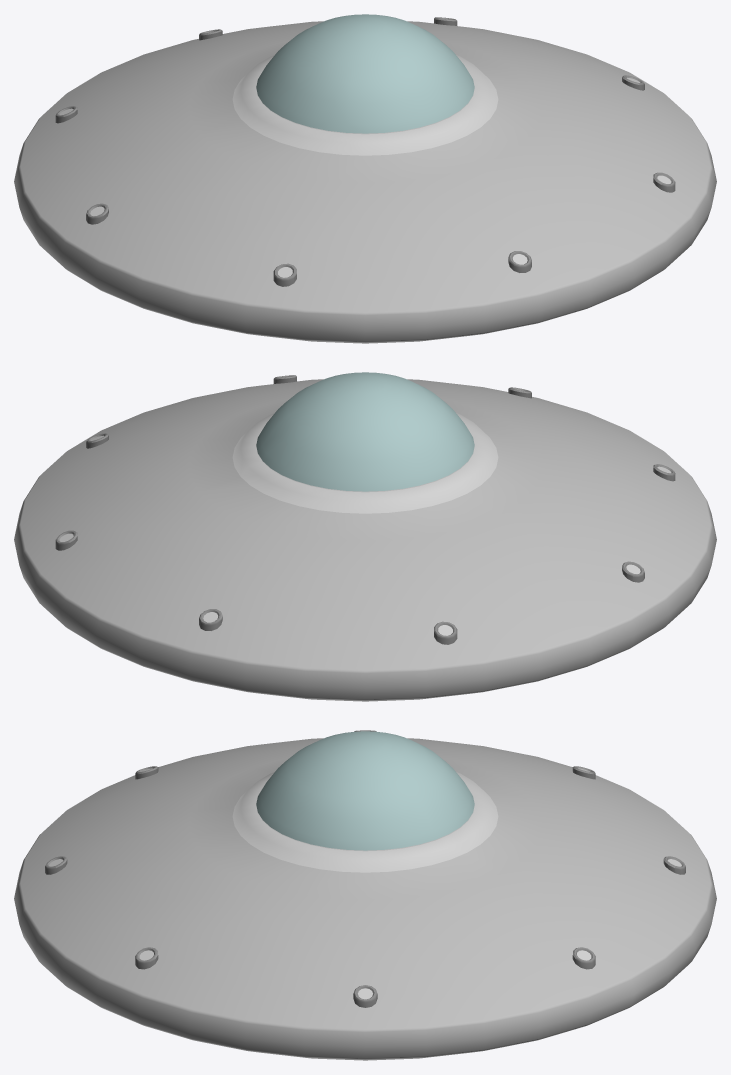
Rendered from ufo.glb.
The picture shows the model from 3 angles, top to bottom: view 1: azimuth 30°, elevation 25°; view 2: azimuth 150°, elevation 25°; view 3: azimuth 270°, elevation 25°; orthographic projection.
Parts seen in each view (by area): view 1: ufo; view 2: ufo; view 3: ufo.
Boxes of the visible parts, x1,y1,x2,y2 form: ufo: (14,14,716,343); ufo: (14,372,716,701); ufo: (14,730,716,1060).
Size of the model in its own units: 1 by 0.3744 by 1.
